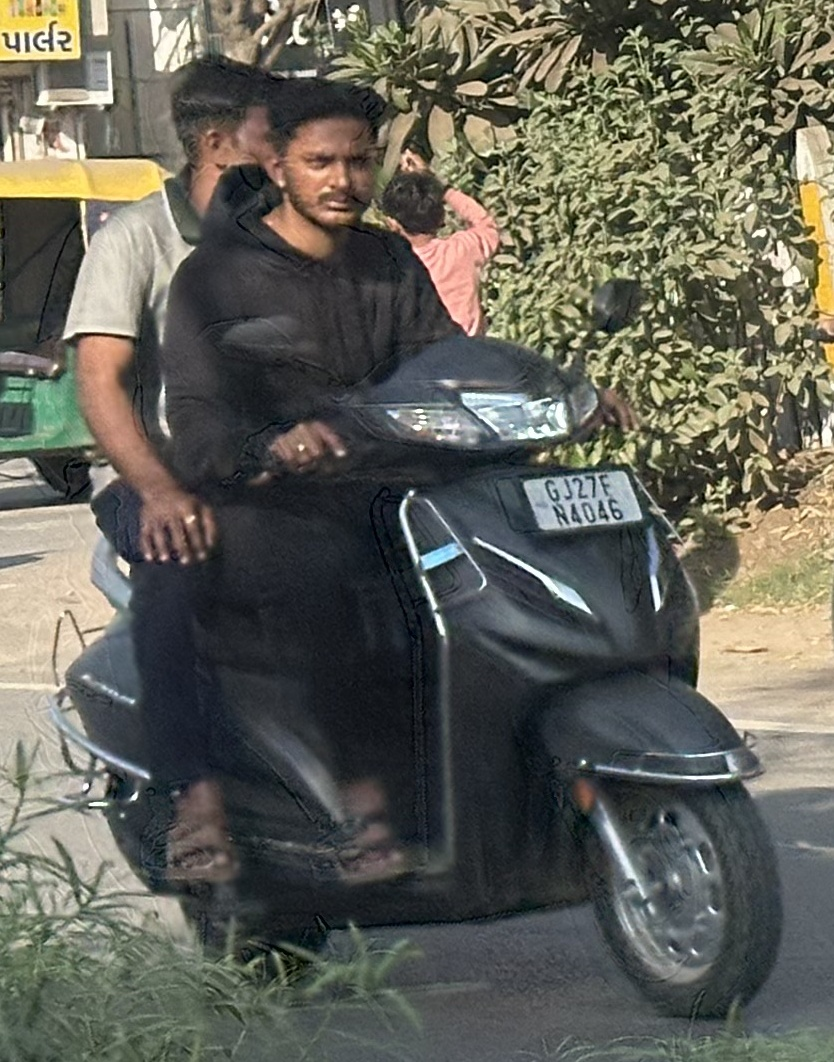BikeWithRider: (28, 37, 803, 1040)
NoHelmet: (250, 71, 400, 238), (151, 45, 291, 220)
